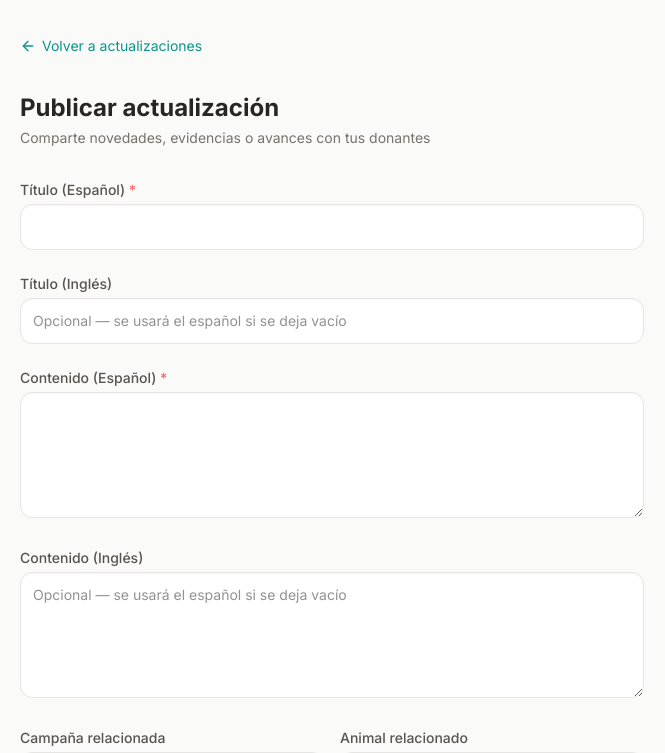
Test: ShelterUpdateCreatePage › submit button becomes enabled when required fields are filled
This screenshot has width=665, height=753.
Type "Mi título" into the 1st field at (332, 227), box x1=20 y1=204 x2=644 y2=250
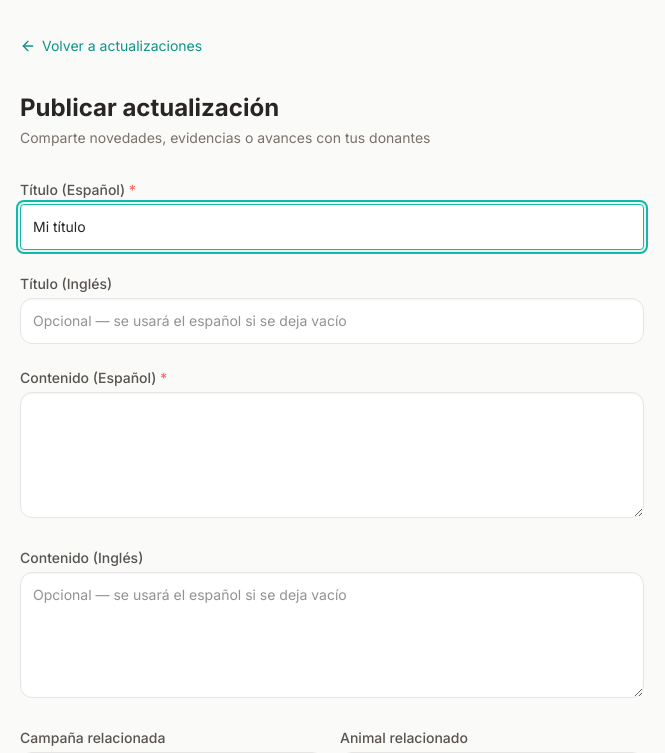
Type "Contenido de prueba" into the 1st text box at (332, 455), box x1=20 y1=392 x2=644 y2=518
(page scrolled)
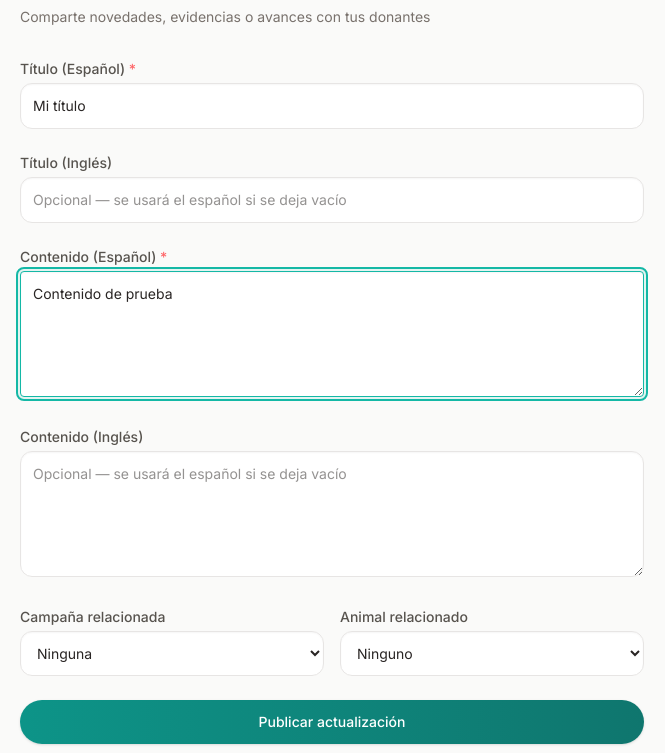
Expected: the button "Publicar actualización" is enabled, x1=20 y1=700 x2=644 y2=744
